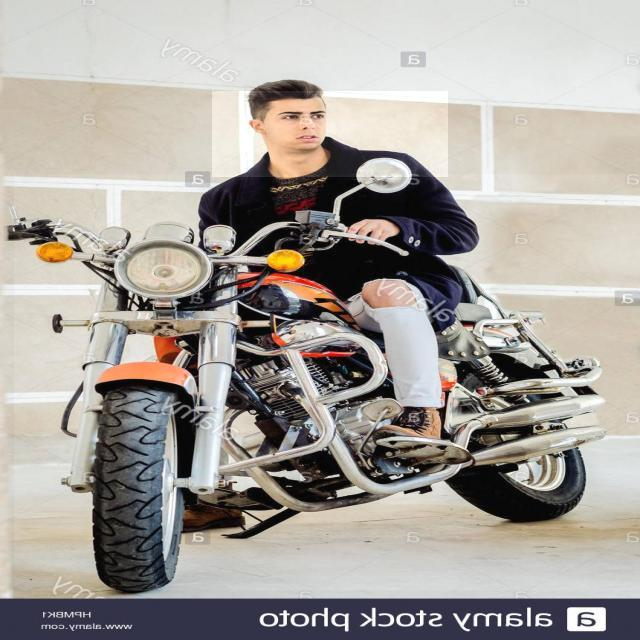Bike: (14, 174, 640, 590)
No_Helmet: (212, 91, 448, 177)
